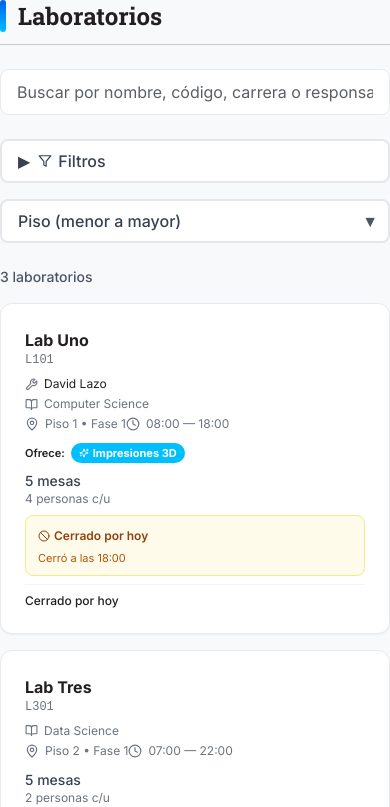
it: LaboratoriosPage › estudiante: NO ve el filtro de Estado (solo recibe labs activos)
Check: the heading "Lab Uno" is shown, box x1=25 y1=330 x2=89 y2=350
Click the button "▶ Filtros": (82, 161) x1=0 y1=139 x2=389 y2=183
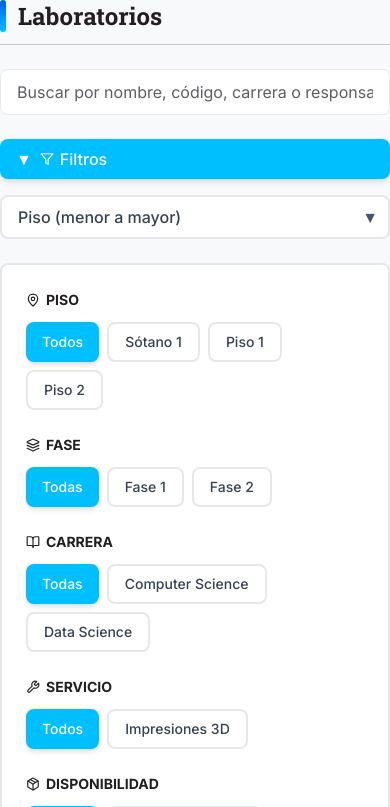
Check: the heading "Disponibilidad" is shown, box x1=26 y1=774 x2=159 y2=794
